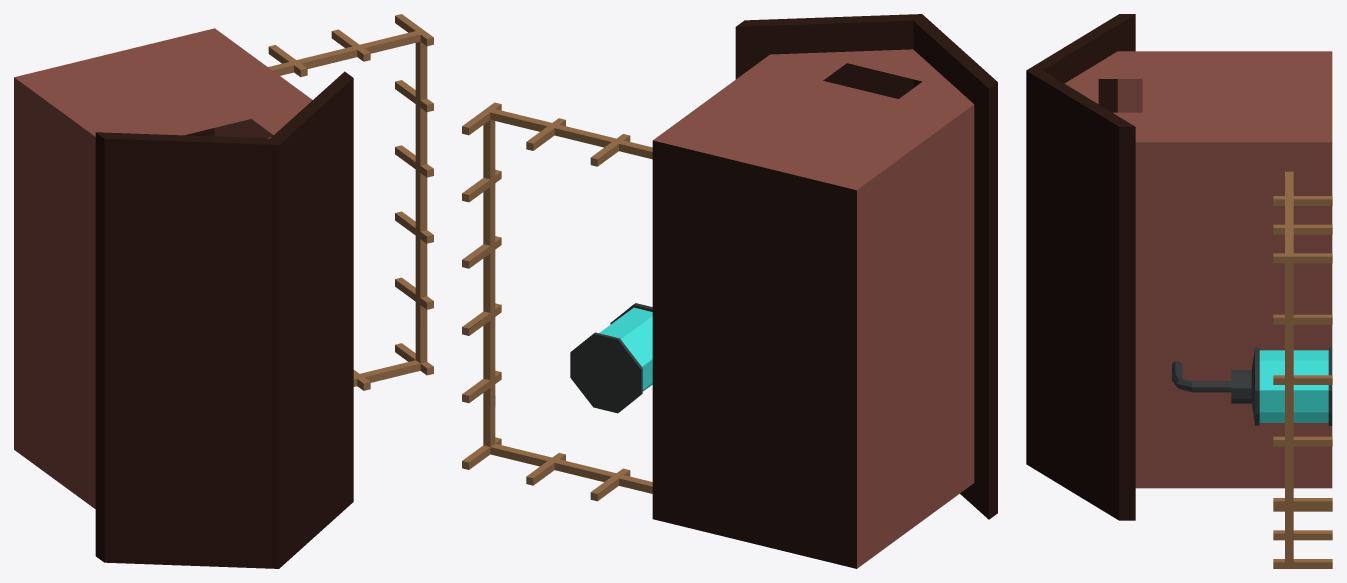
Rendered from Shelter.gltf.
The picture shows the model from 3 angles, left to right: view 1: azimuth 30°, elevation 25°; view 2: azimuth 150°, elevation 25°; view 3: azimuth 270°, elevation 25°; orthographic projection. The views are drawn at different scales.
Visible parts, largest first — view 1: Cube.002; view 2: Cube.002; view 3: Cube.002.
Boxes of the visible parts, x1,y1,x2,y2 form: Cube.002: [14, 14, 433, 568]; Cube.002: [462, 14, 997, 568]; Cube.002: [1026, 14, 1332, 568].
Size of the model in its own units: 1.96 by 1.92 by 1.36.
Materials: 2 (1 with a texture image).
